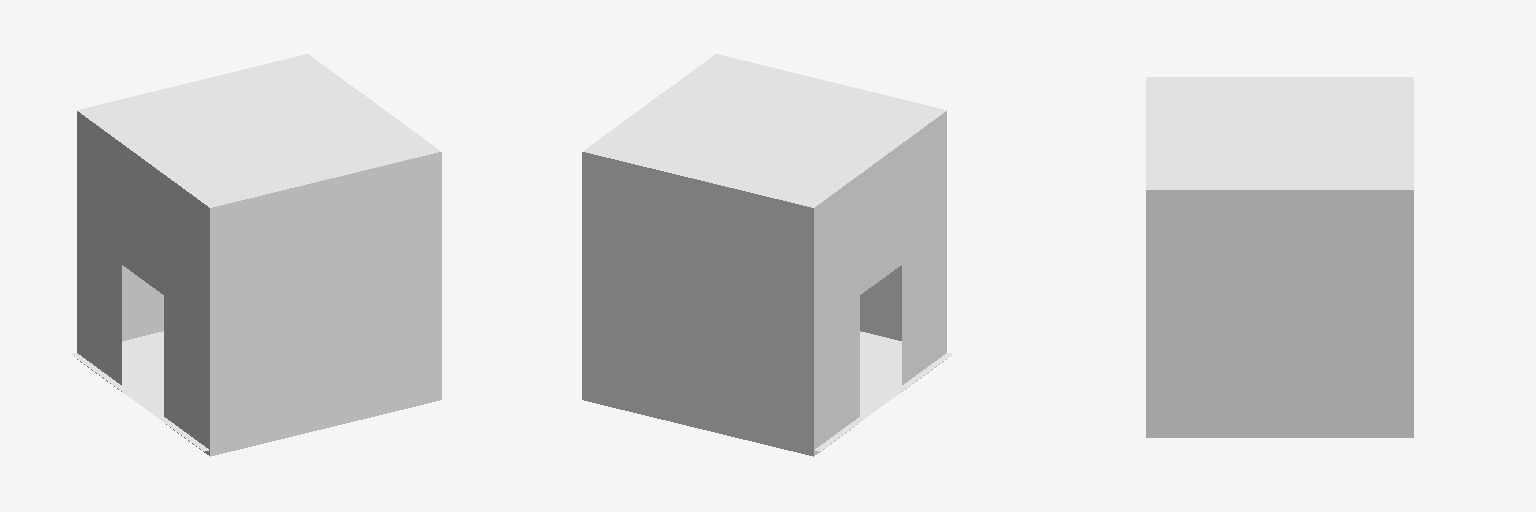
3 views of the same model, side by side, from view 1: azimuth 30°, elevation 25°; view 2: azimuth 150°, elevation 25°; view 3: azimuth 270°, elevation 25° (orthographic).
Parts seen in each view (by area): view 1: ExitEmissive; view 2: ExitEmissive; view 3: ExitEmissive.
Boxes of the visible parts, <box> form: ExitEmissive: <box>71,54,441,456</box>; ExitEmissive: <box>582,54,952,456</box>; ExitEmissive: <box>1146,77,1413,437</box>.
Bounding box in the file's own units: 3.9 × 3.9 × 3.8.
1 materials, 1 textured.